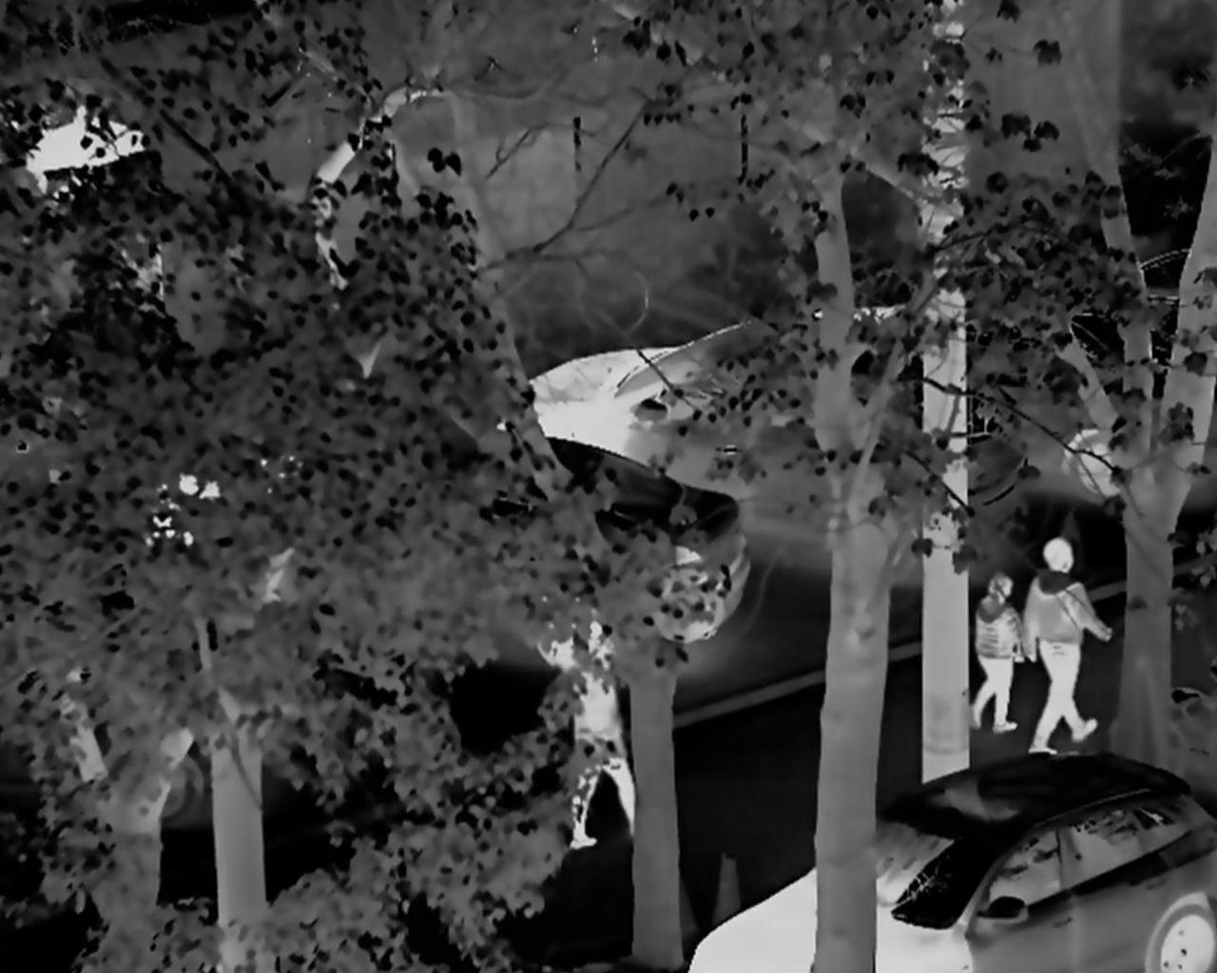person: (1022, 522, 1110, 757), (559, 650, 644, 864), (973, 570, 1020, 745)
